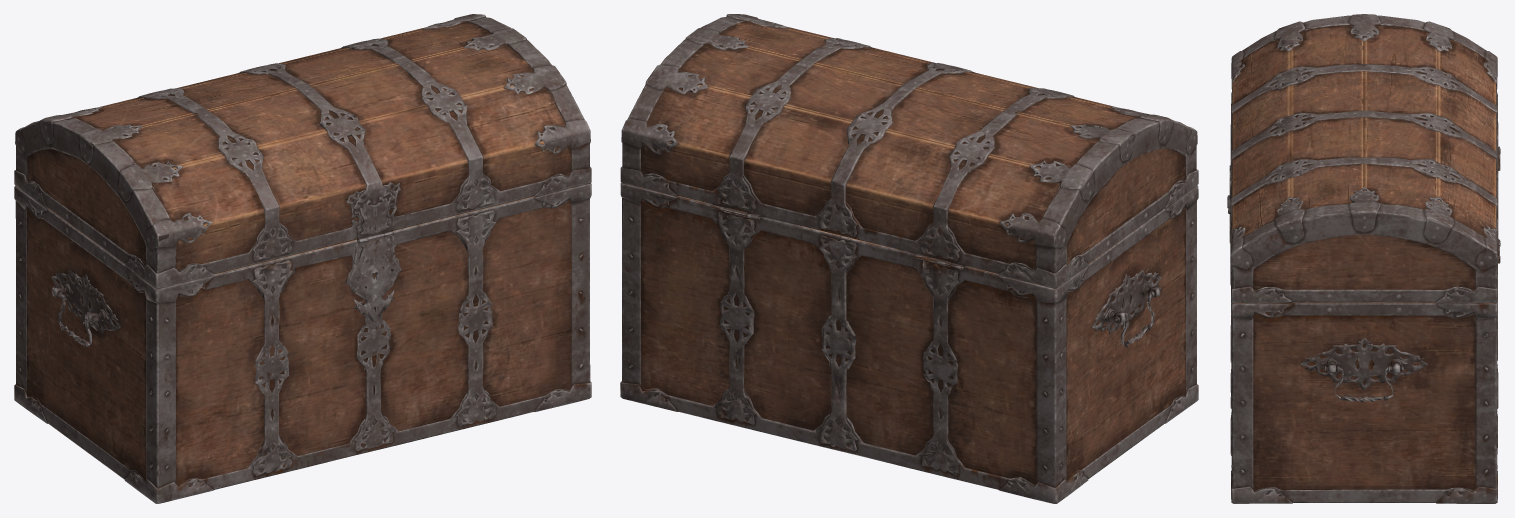
Rendered from treasure_chest_lod2.glb.
3 renders of one model, left to right at view 1: azimuth 30°, elevation 25°; view 2: azimuth 150°, elevation 25°; view 3: azimuth 270°, elevation 25°, orthographic. The views are drawn at different scales.
Visible parts, largest first — view 1: treasure_chest_bottom, treasure_chest_lid, treasure_chest_lock; view 2: treasure_chest_bottom, treasure_chest_lid; view 3: treasure_chest_lid, treasure_chest_bottom, treasure_chest_handle_right.
Boxes of the visible parts, bbox=[...] form: treasure_chest_bottom: bbox=[14, 183, 591, 503]; treasure_chest_lid: bbox=[14, 14, 591, 288]; treasure_chest_lock: bbox=[349, 233, 399, 322]; treasure_chest_bottom: bbox=[620, 182, 1198, 503]; treasure_chest_lid: bbox=[620, 14, 1198, 288]; treasure_chest_lid: bbox=[1227, 14, 1500, 303]; treasure_chest_bottom: bbox=[1230, 153, 1500, 503]; treasure_chest_handle_right: bbox=[1322, 365, 1406, 402].
Bounding box in the file's own units: 0.958 × 0.6188 × 0.5226.
1 material, 1 textured.
